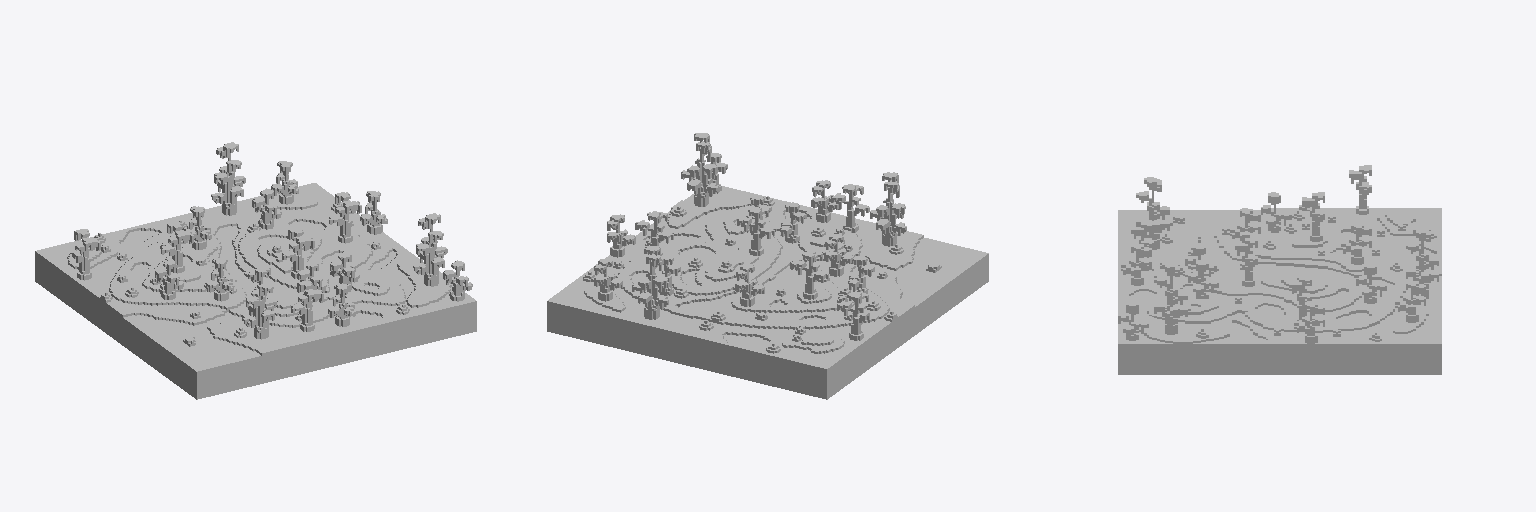
File: Map (19).obj
The picture shows the model from 3 angles: view 1: azimuth 30°, elevation 25°; view 2: azimuth 150°, elevation 25°; view 3: azimuth 270°, elevation 25°; orthographic projection.
Parts seen in each view (by area): view 1: ALL MAP!!!!!!!!!!!-16; view 2: ALL MAP!!!!!!!!!!!-16; view 3: ALL MAP!!!!!!!!!!!-16.
Boxes of the visible parts, x1=… form: ALL MAP!!!!!!!!!!!-16: x1=35, y1=142, x2=476, y2=399; ALL MAP!!!!!!!!!!!-16: x1=547, y1=133, x2=988, y2=399; ALL MAP!!!!!!!!!!!-16: x1=1118, y1=165, x2=1441, y2=374.
Size of the model in its own units: 125 by 43 by 125.